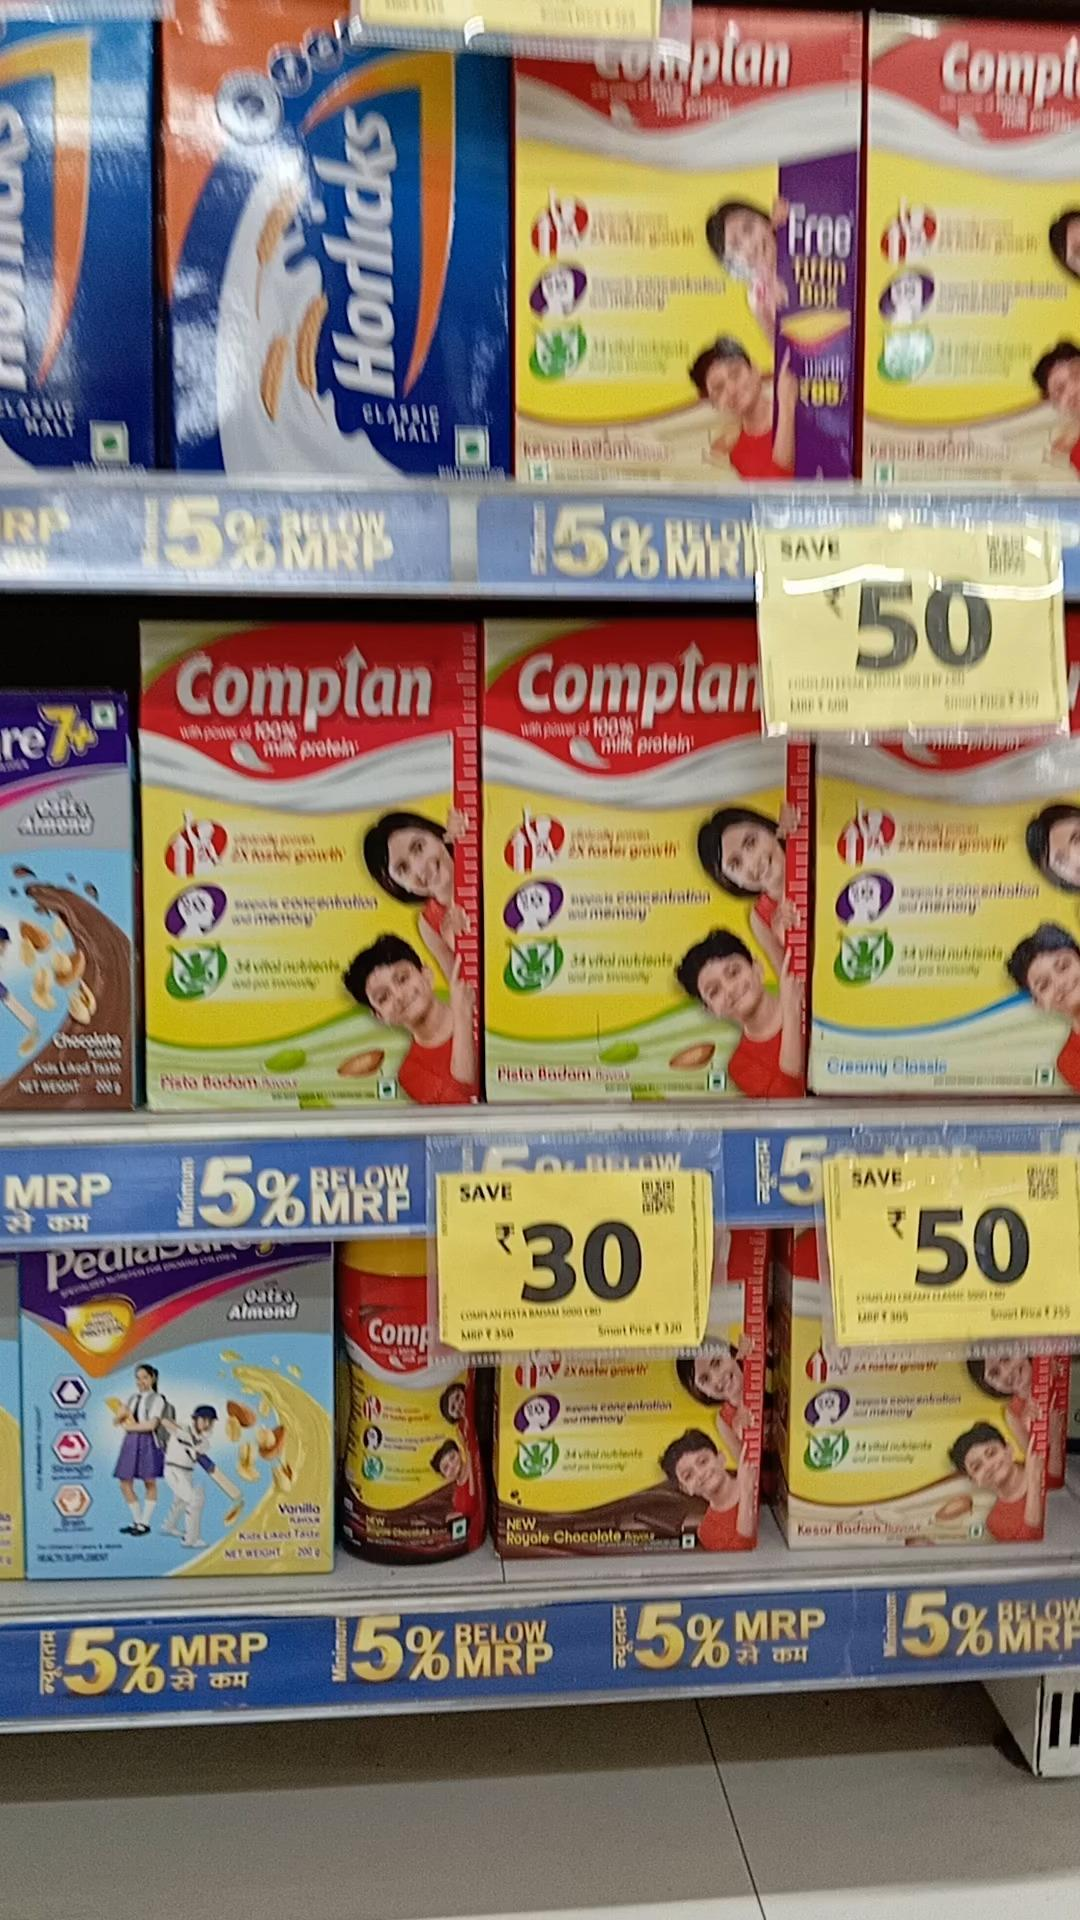COMPLAN_CHOCOLATE_500_GMS_PACK: (498, 1345, 769, 1563)
COMPLAN_KESAR_BADAM_500_GMS_PACK: (517, 16, 861, 489), (791, 1327, 1036, 1548)
COMPLAN_PISTA_BADAM_500_GMS_PACK: (138, 625, 471, 1104), (485, 618, 802, 1096)
HORLICK_CHOCOLATE_200_G_JAR: (340, 1241, 480, 1565)
HORLICK_CLASSIC_MALT_500_G_PACK: (164, 0, 512, 492)
